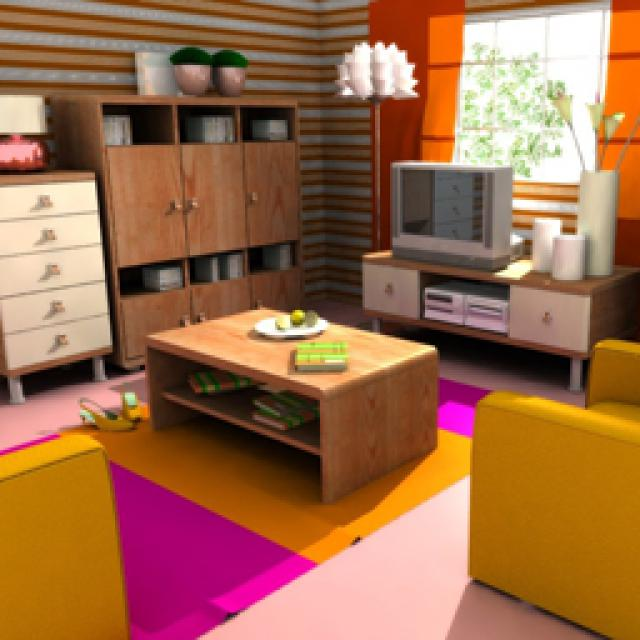lamp crop: (502, 323, 640, 411), (2, 585, 145, 640)
